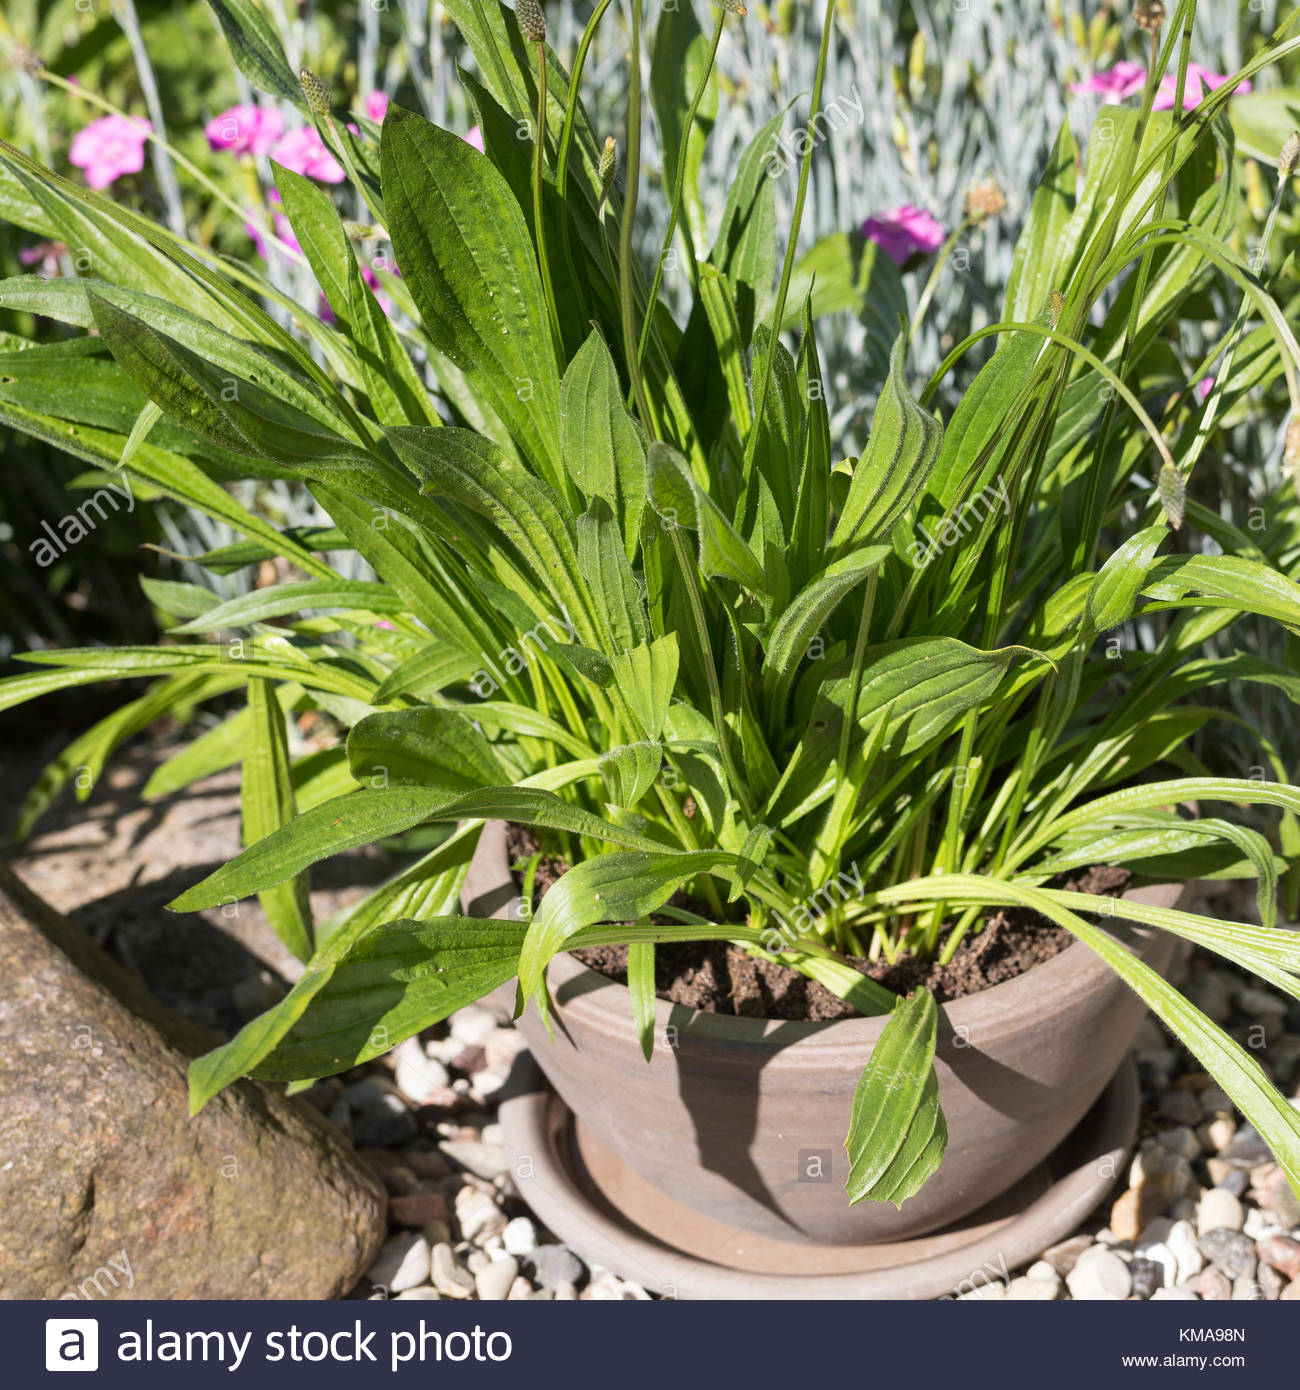buckhorn plantain: (12, 5, 1277, 1010)
